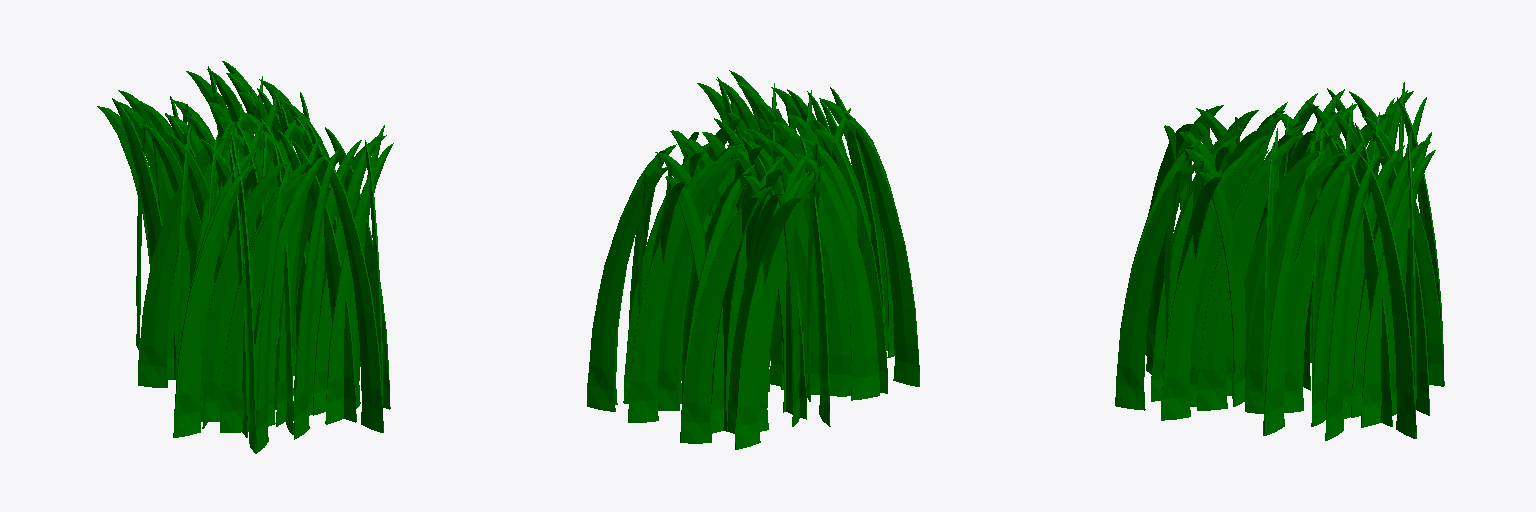
File: LowPolyGrass.obj
The picture shows the model from 3 angles: view 1: azimuth 30°, elevation 25°; view 2: azimuth 150°, elevation 25°; view 3: azimuth 270°, elevation 25°; orthographic projection.
Parts seen in each view (by area): view 1: Plane; view 2: Plane; view 3: Plane.
Boxes of the visible parts, <box> form: Plane: <box>97,61,393,453</box>; Plane: <box>587,70,919,449</box>; Plane: <box>1115,82,1444,440</box>.
Size of the model in its own units: 1.76 by 1.84 by 2.14.